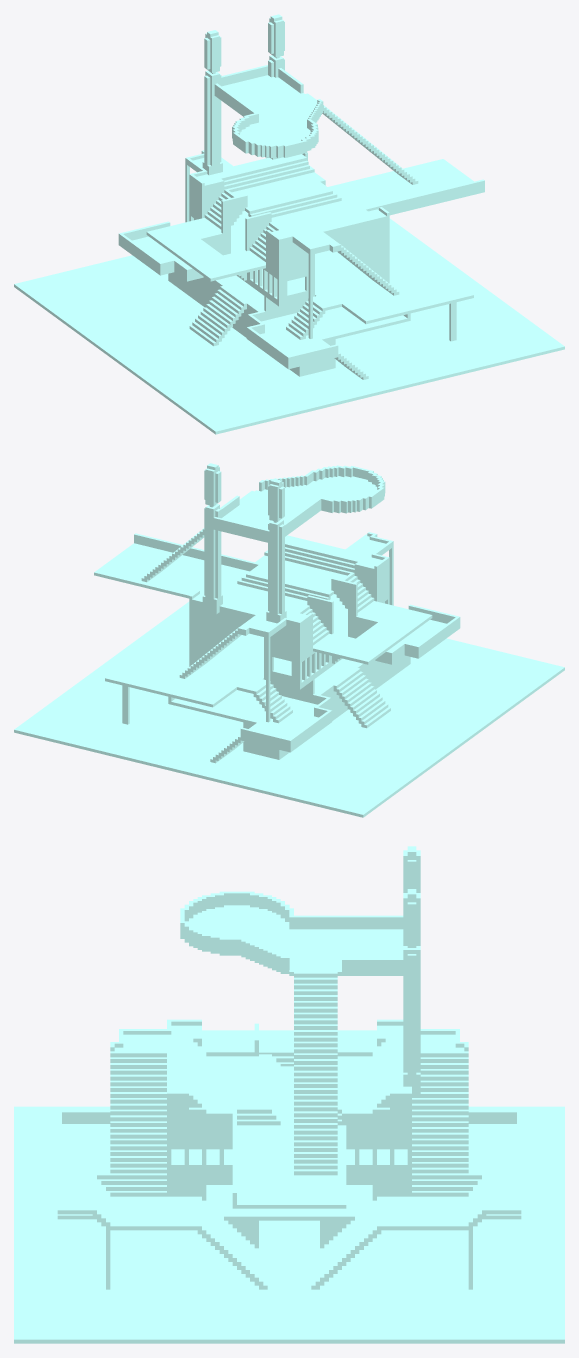
Rendered from litTemple.gltf.
3 views of the same model, one above another, from view 1: azimuth 30°, elevation 25°; view 2: azimuth 150°, elevation 25°; view 3: azimuth 270°, elevation 25° (orthographic). The views are drawn at different scales.
Parts seen in each view (by area): view 1: temple; view 2: temple; view 3: temple.
Boxes of the visible parts, x1,y1,x2,y2 form: temple: (14,14,564,434); temple: (14,463,564,817); temple: (14,846,564,1343).
Bounding box in the file's own units: 1.26 × 0.9 × 1.26.
